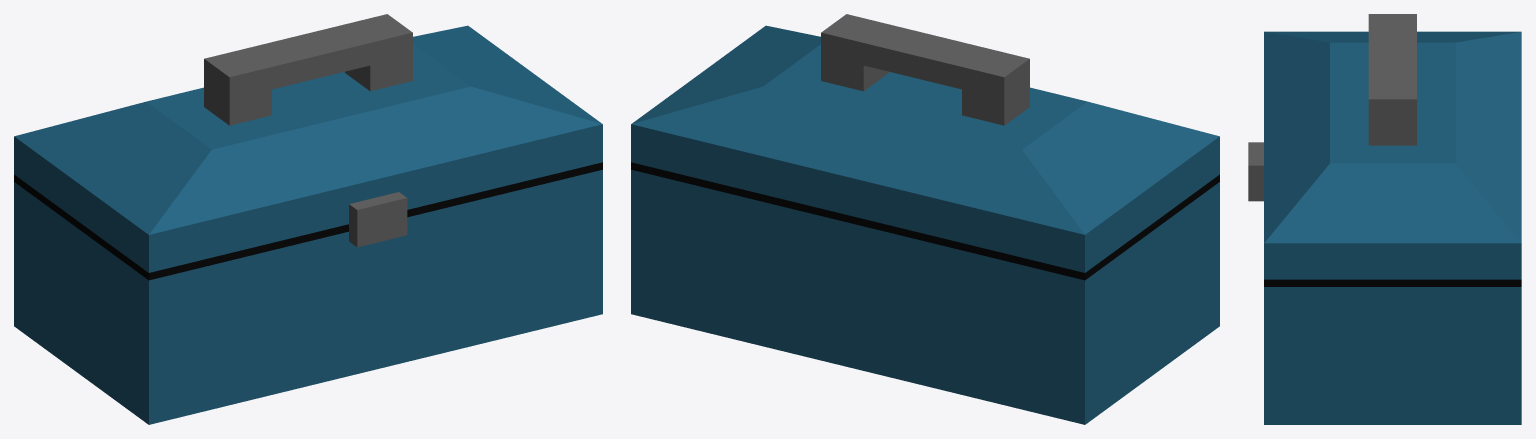
The model's file is ToolboxBlue.fbx.
3 views of the same model, side by side, from view 1: azimuth 30°, elevation 25°; view 2: azimuth 150°, elevation 25°; view 3: azimuth 270°, elevation 25° (orthographic). The views are drawn at different scales.
Visible parts, largest first — view 1: ToolBoxTop.001, ToolBoxBottom.001; view 2: ToolBoxBottom.001, ToolBoxTop.001; view 3: ToolBoxTop.001, ToolBoxBottom.001.
Part boxes in pixels (bbox=[...]): ToolBoxTop.001: bbox=[14, 14, 602, 272]; ToolBoxBottom.001: bbox=[14, 162, 602, 424]; ToolBoxBottom.001: bbox=[631, 162, 1219, 424]; ToolBoxTop.001: bbox=[631, 14, 1219, 272]; ToolBoxTop.001: bbox=[1248, 14, 1521, 279]; ToolBoxBottom.001: bbox=[1264, 279, 1521, 424].
Bounding box in the file's own units: 0.6965 × 0.4027 × 0.3797.
